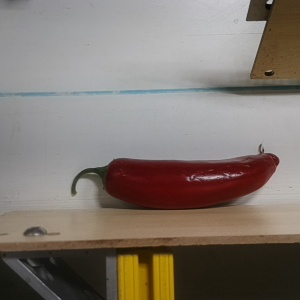Cut Point: (93, 156, 127, 198)
